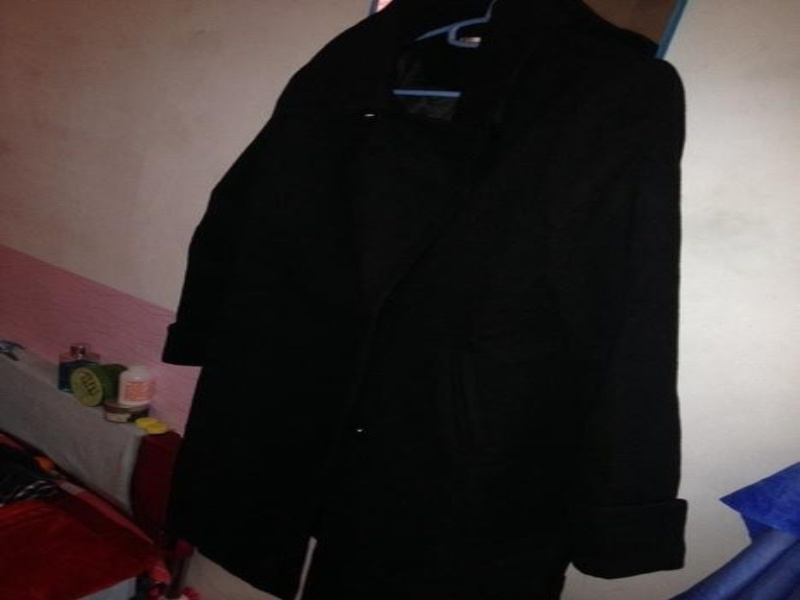long_sleeved_outwear: (135, 1, 709, 599)
